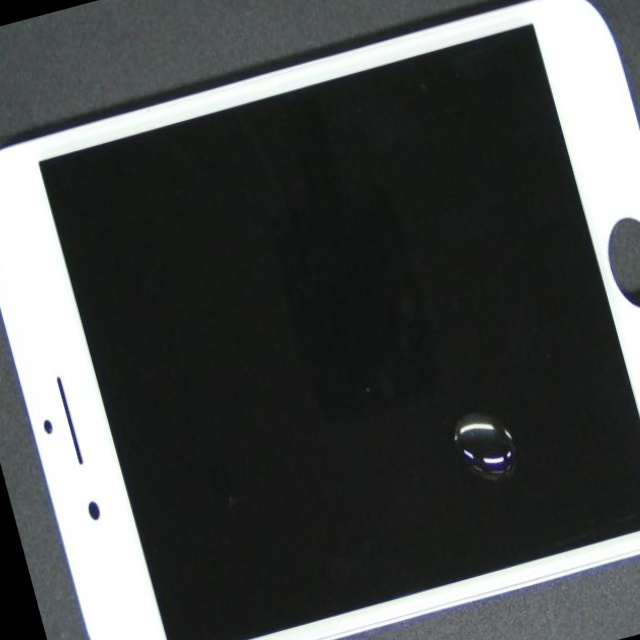oil: (227, 133, 640, 640)
